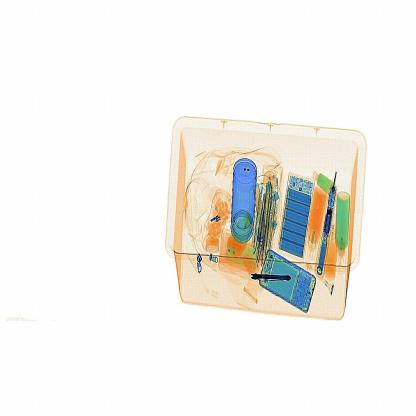knife: (248, 270, 294, 287)
